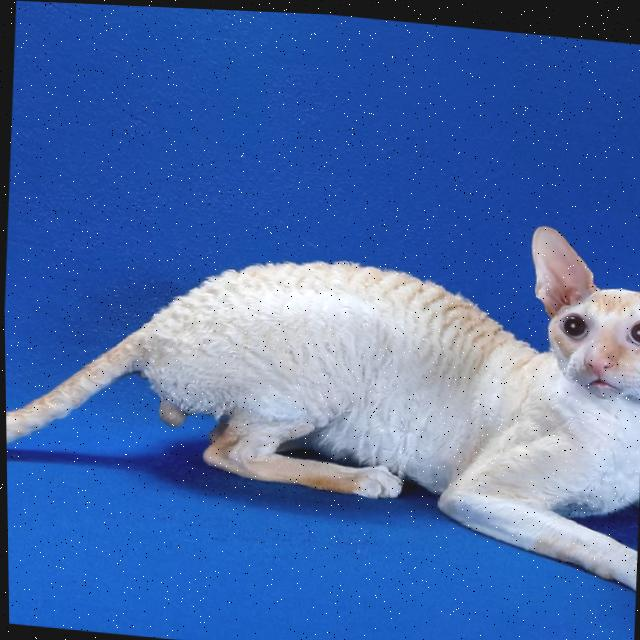Cornish Rex: (2, 168, 640, 604)
